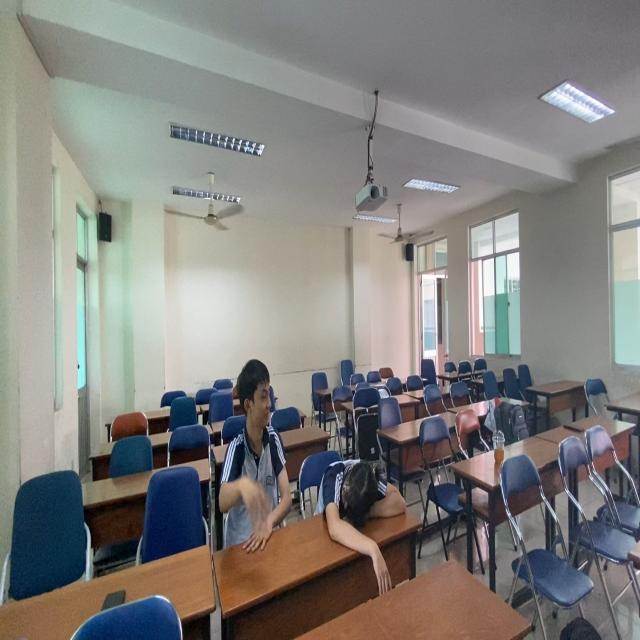sleep: (316, 450, 410, 559)
